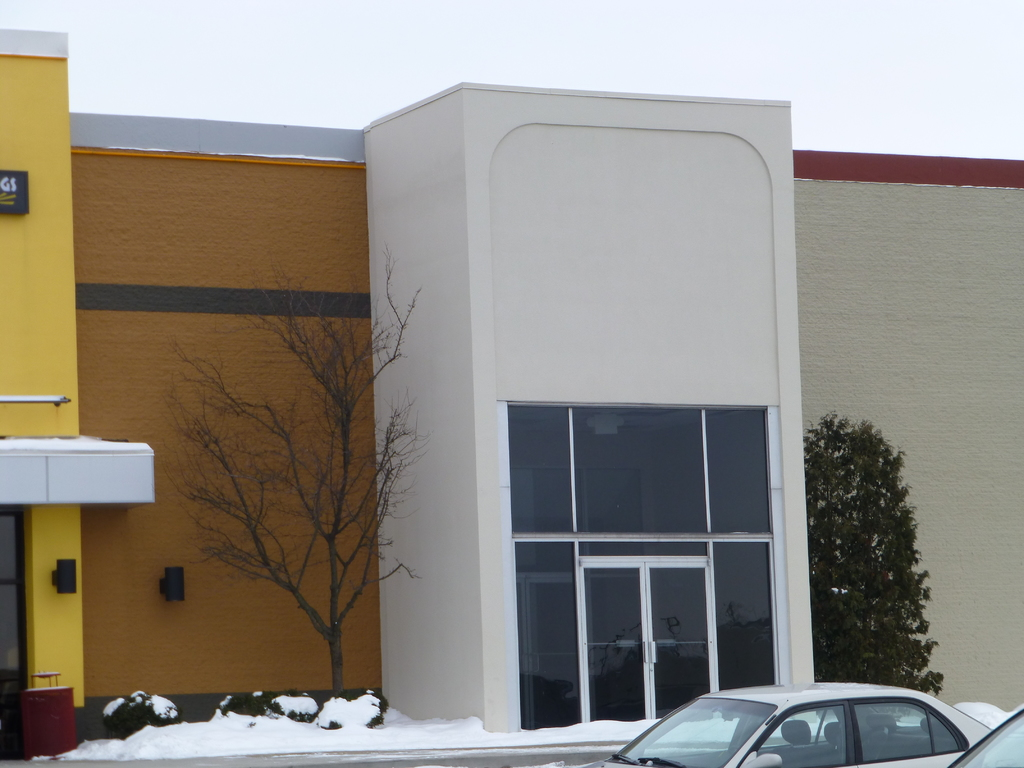Car: (582, 673, 1002, 767), (940, 705, 1023, 767)
